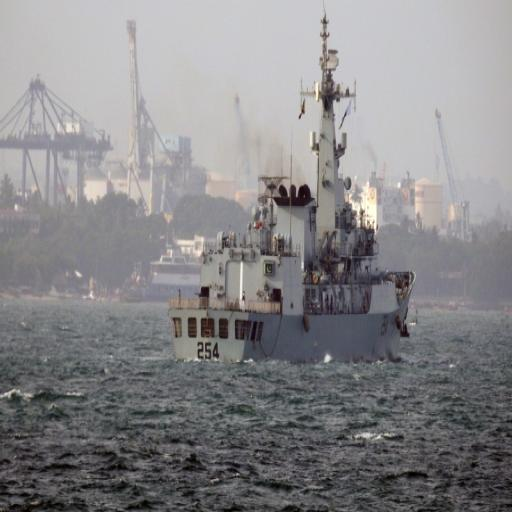Fragata: (165, 2, 421, 371)
